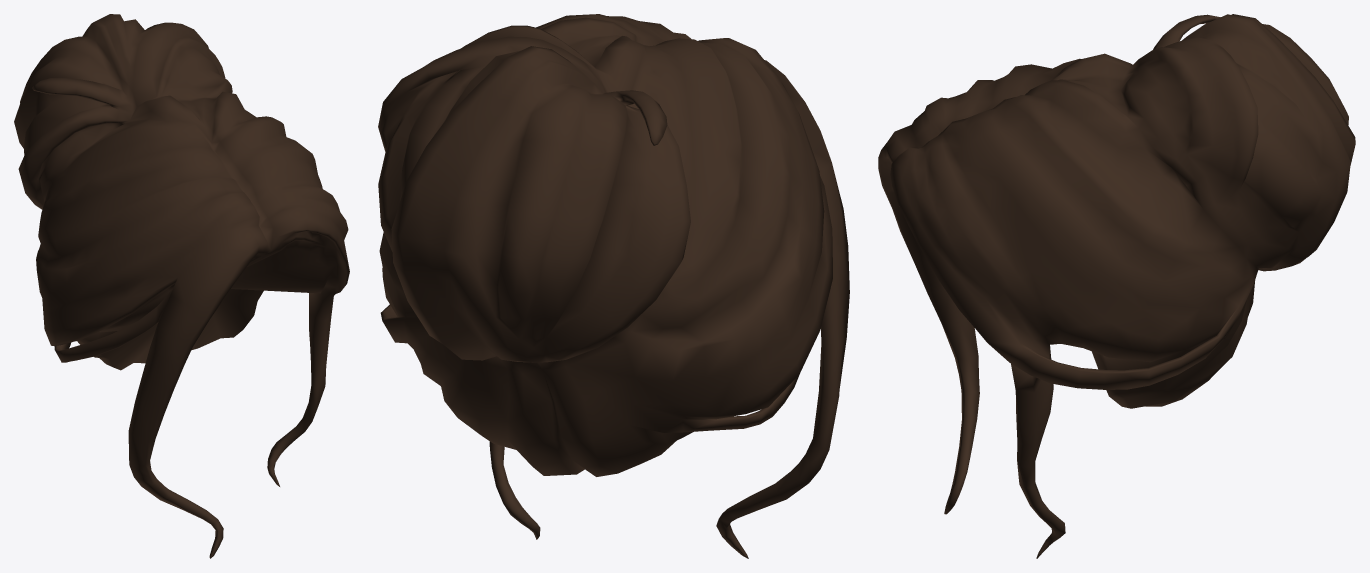
Rendered from hair_w05.glb.
3 views of the same model, side by side, from view 1: azimuth 30°, elevation 25°; view 2: azimuth 150°, elevation 25°; view 3: azimuth 270°, elevation 25° (orthographic). The views are drawn at different scales.
Visible parts, largest first — view 1: hair_w05; view 2: hair_w05; view 3: hair_w05.
Boxes of the visible parts, left/top/right/bottom form: hair_w05: left=14, top=14, right=349, bottom=558; hair_w05: left=378, top=14, right=849, bottom=558; hair_w05: left=878, top=14, right=1355, bottom=558.
Bounding box in the file's own units: 0.1823 × 0.2906 × 0.2446.
